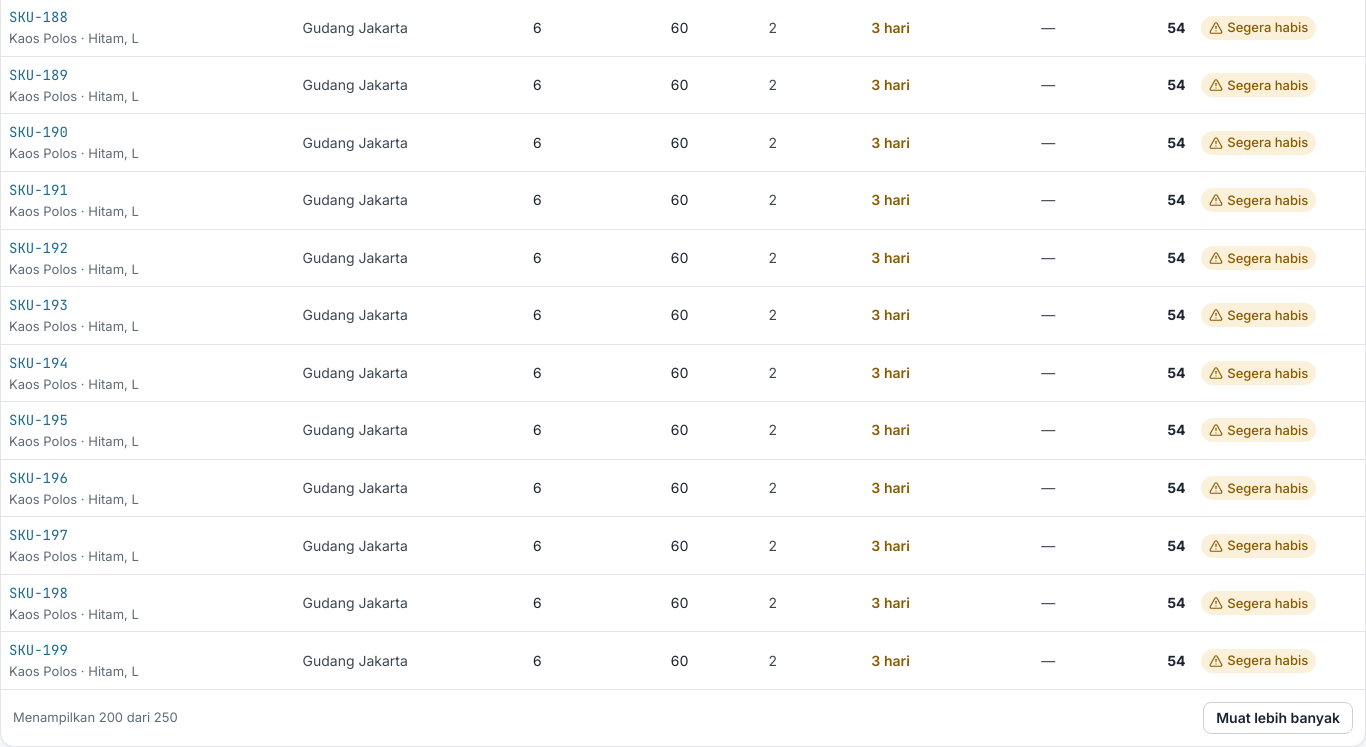
it: RestockView (FR-STK-07) › loads more rows until it has them all
(page scrolled)
expect the text "Menampilkan 200 dari 250" is shown: met, box [13,708,178,728]
Click the button "Muat lebih banyak": (1278, 718) [1203,702,1353,734]
(page scrolled)
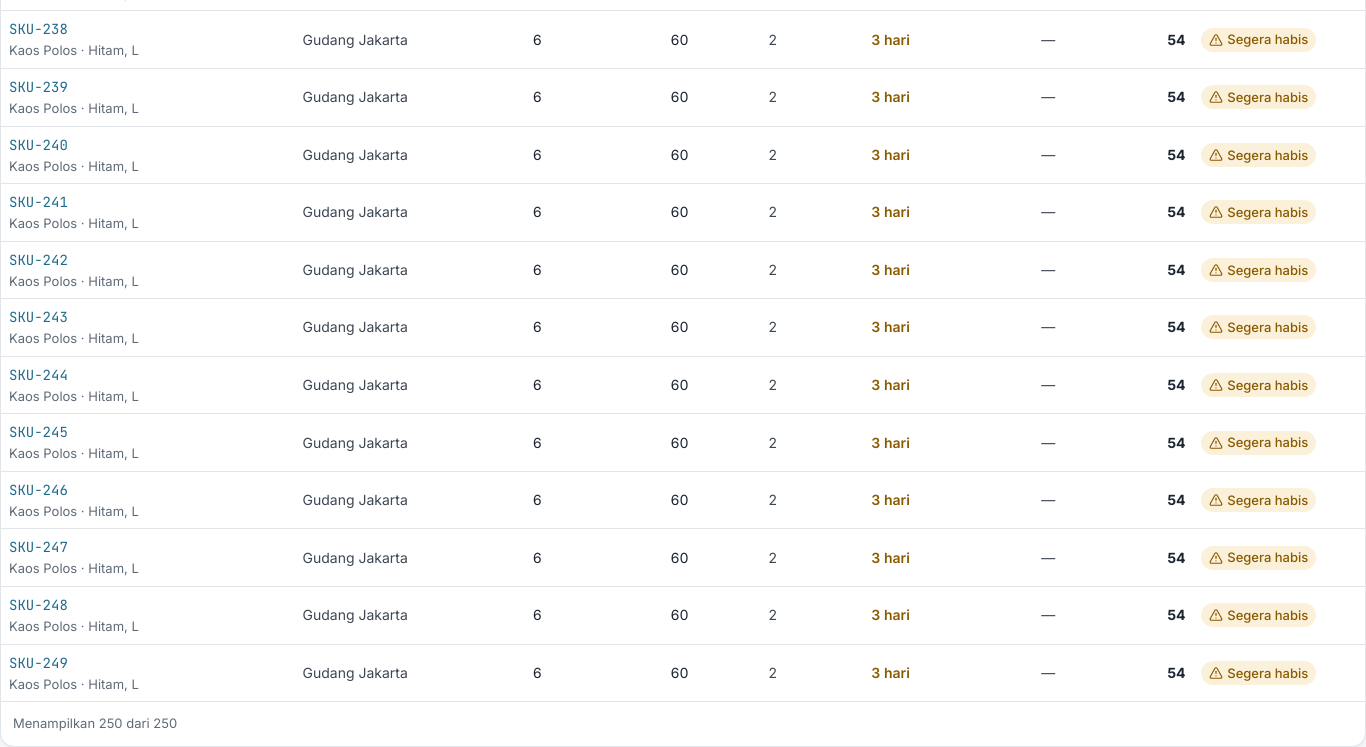
expect the text "Menampilkan 250 dari 250" is shown: met, box [13,714,177,734]
expect the button "Muat lebih banyak" is gone: met
